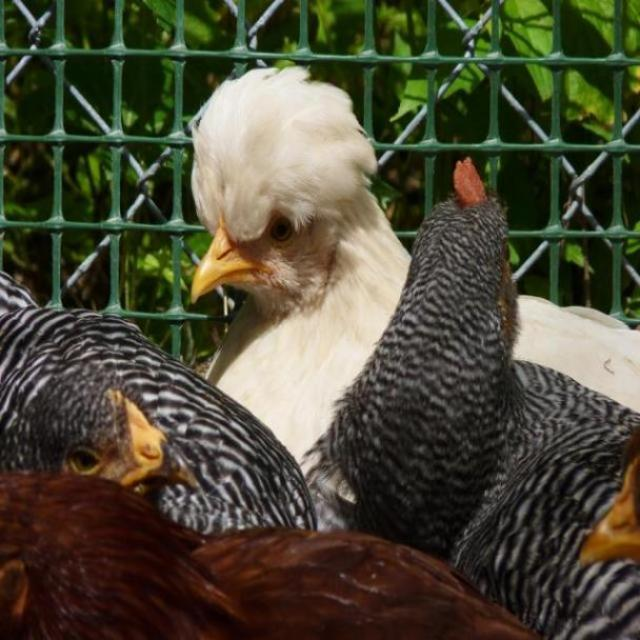Chicken: (306, 149, 640, 639), (0, 472, 536, 639)
